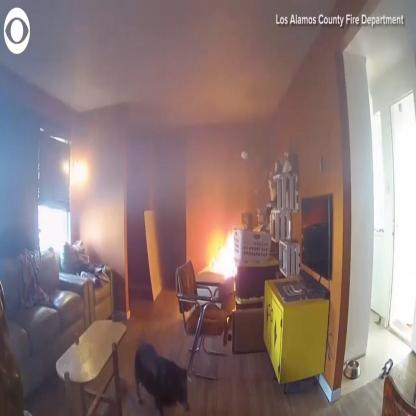fire: (210, 230, 238, 281)
